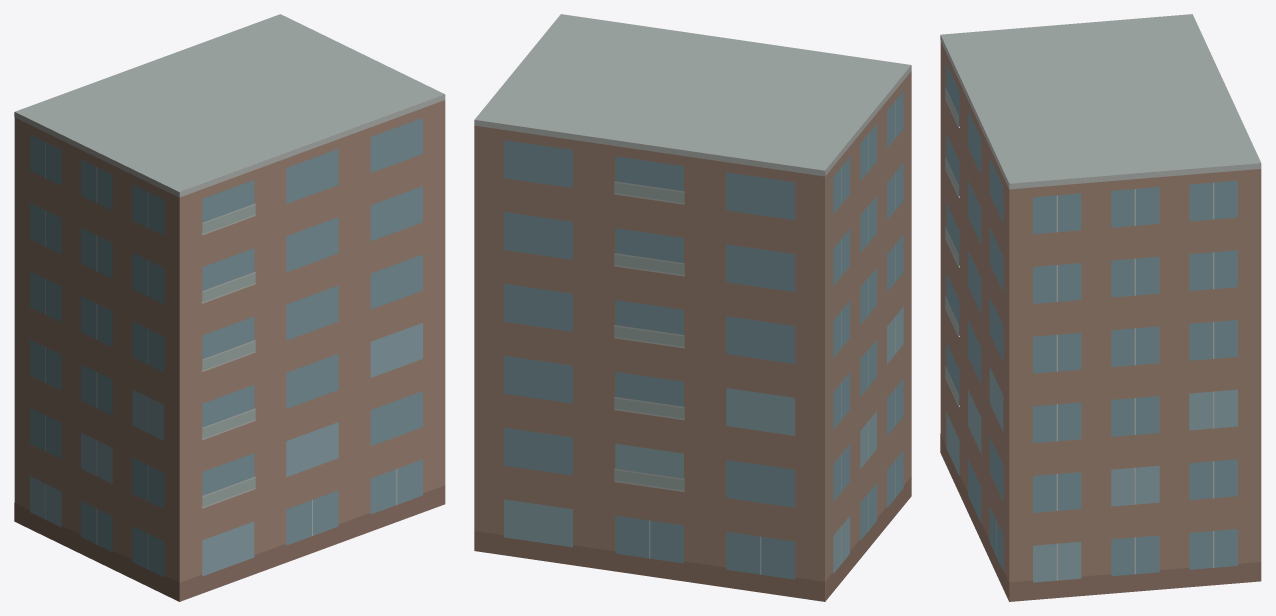
Rendered from survey-upis-32653276.glb.
3 views of the same model, side by side, from view 1: azimuth 30°, elevation 25°; view 2: azimuth 150°, elevation 25°; view 3: azimuth 270°, elevation 25° (orthographic). The views are drawn at different scales.
Visible parts, largest first — view 1: survey-upis-32653276.tmp; view 2: survey-upis-32653276.tmp; view 3: survey-upis-32653276.tmp.
Part boxes in pixels (left/top/right/bottom): survey-upis-32653276.tmp: left=14, top=14, right=445, bottom=601; survey-upis-32653276.tmp: left=474, top=14, right=911, bottom=601; survey-upis-32653276.tmp: left=940, top=14, right=1261, bottom=601.
Size of the model in its own units: 15.77 by 18.1 by 12.6.
